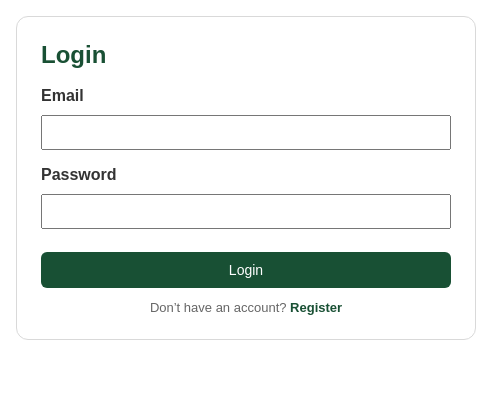
Test case: Login › shows server error when fetch throws
Type "test@example.com" into the field named "email".
click(246, 132); type("test@example.com")  # box [41,115,451,150]
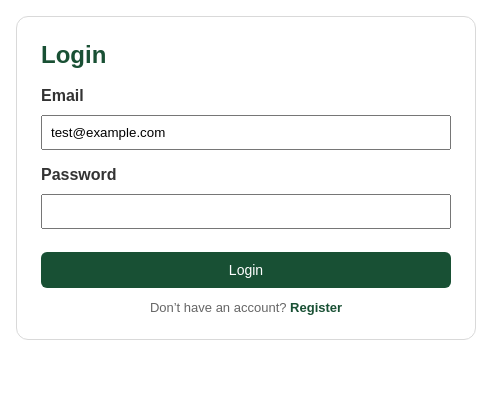
Type "123456" into the password field named "password".
click(246, 212); type("123456")  # box [41,194,451,229]
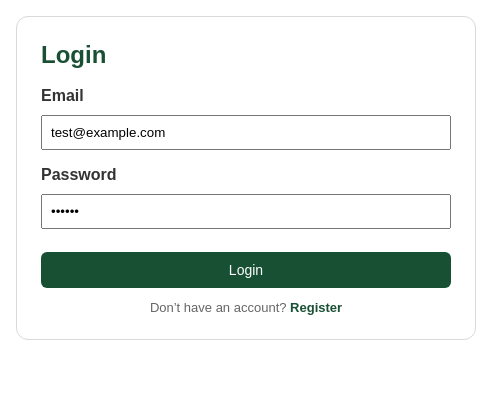
Click the button "Login".
click(246, 270)  # box [41,252,451,288]
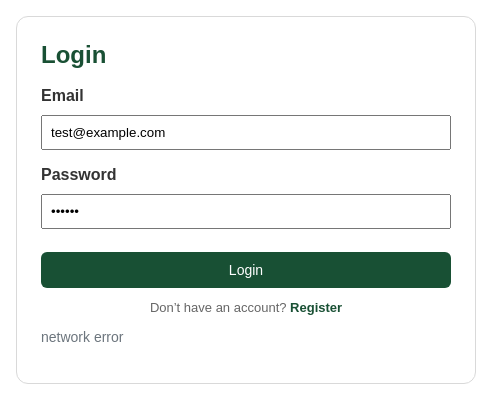
Now the text "network error" is shown, box [41,329,124,345]
